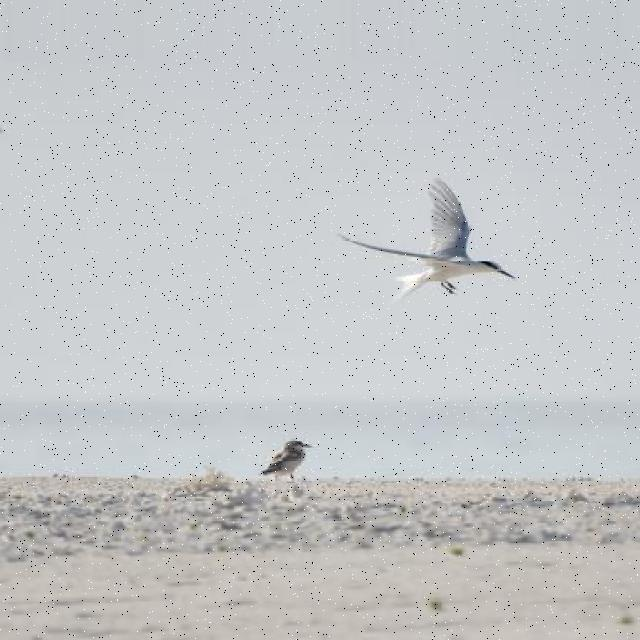bird: (335, 180, 520, 302), (258, 438, 312, 480)
